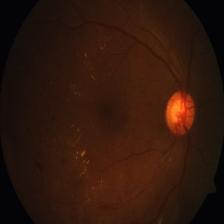diabetic_retinopatic: (165, 89, 195, 134)
